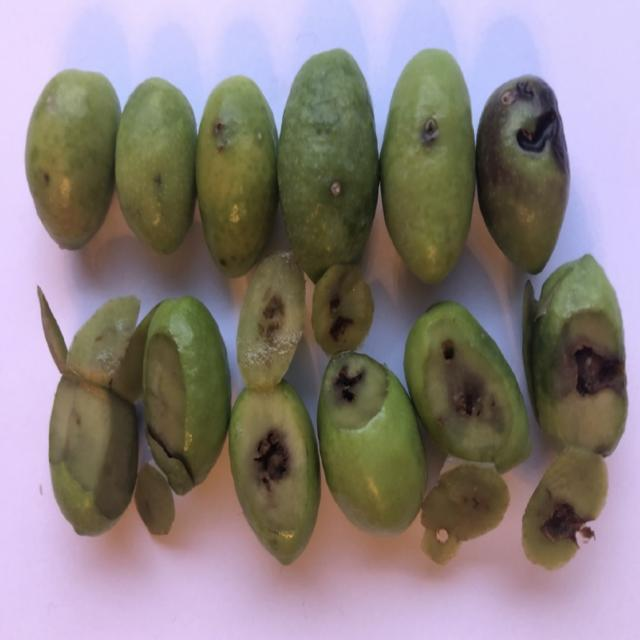Anthracnose: (523, 254, 627, 569), (380, 48, 476, 282), (279, 48, 379, 268), (404, 302, 530, 472), (318, 351, 427, 532), (476, 75, 570, 274), (26, 70, 120, 248), (229, 381, 320, 564), (197, 76, 278, 273), (116, 78, 196, 254)
